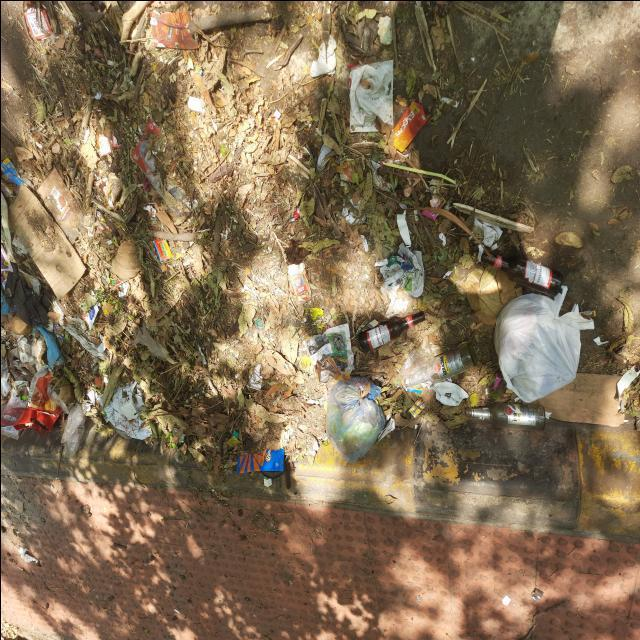Cig_pack: (288, 262, 310, 302)
Disposable: (341, 205, 364, 223), (349, 197, 360, 208)
Garbage: (0, 0, 631, 485)
Glass_bottle: (480, 252, 561, 295), (404, 342, 475, 387), (358, 310, 424, 352), (465, 402, 545, 430)
Mask: (316, 143, 334, 170)
Plastic_Bag: (494, 285, 592, 402), (325, 375, 384, 460), (38, 167, 82, 240), (349, 58, 392, 130), (12, 372, 61, 433), (2, 265, 49, 325), (102, 383, 150, 438), (130, 138, 162, 193), (60, 403, 85, 457), (399, 335, 431, 377), (309, 35, 336, 77), (35, 325, 60, 368), (429, 380, 468, 405), (165, 183, 196, 208), (165, 183, 190, 207), (46, 387, 69, 413), (0, 357, 10, 397), (144, 118, 159, 133), (170, 207, 185, 217), (170, 208, 185, 217), (0, 65, 2, 70)
Plastic_wraper: (236, 448, 284, 473), (0, 392, 26, 438), (18, 335, 46, 370), (152, 238, 171, 260), (84, 303, 98, 328), (0, 243, 12, 272), (96, 133, 110, 155), (185, 57, 201, 73), (492, 370, 502, 388), (309, 307, 322, 320), (225, 435, 240, 445), (405, 385, 422, 393), (0, 300, 10, 313), (81, 400, 90, 413), (111, 133, 118, 147), (108, 277, 118, 285), (292, 207, 299, 218), (316, 323, 322, 328)
Tetrapack: (150, 8, 199, 48), (392, 100, 426, 152), (22, 7, 51, 40), (408, 398, 424, 418), (180, 442, 186, 452)
Thermocol: (120, 398, 136, 418)
